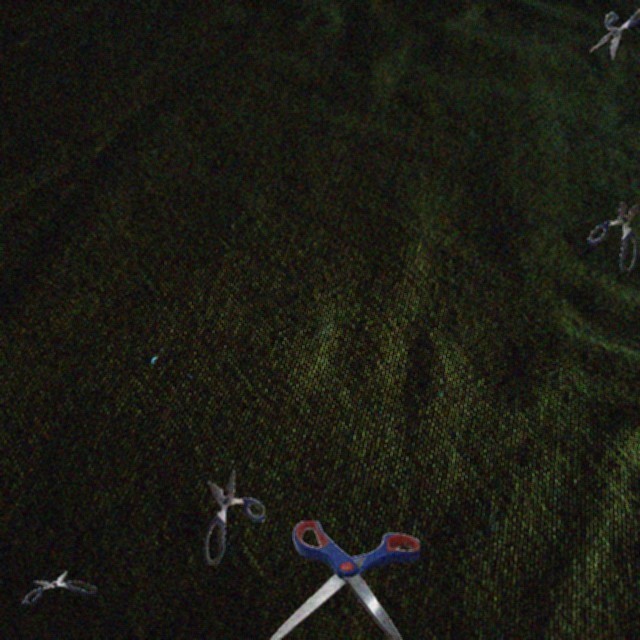scissors: (263, 521, 420, 640), (204, 469, 265, 565), (588, 202, 638, 271), (590, 0, 640, 60), (22, 571, 97, 605)
